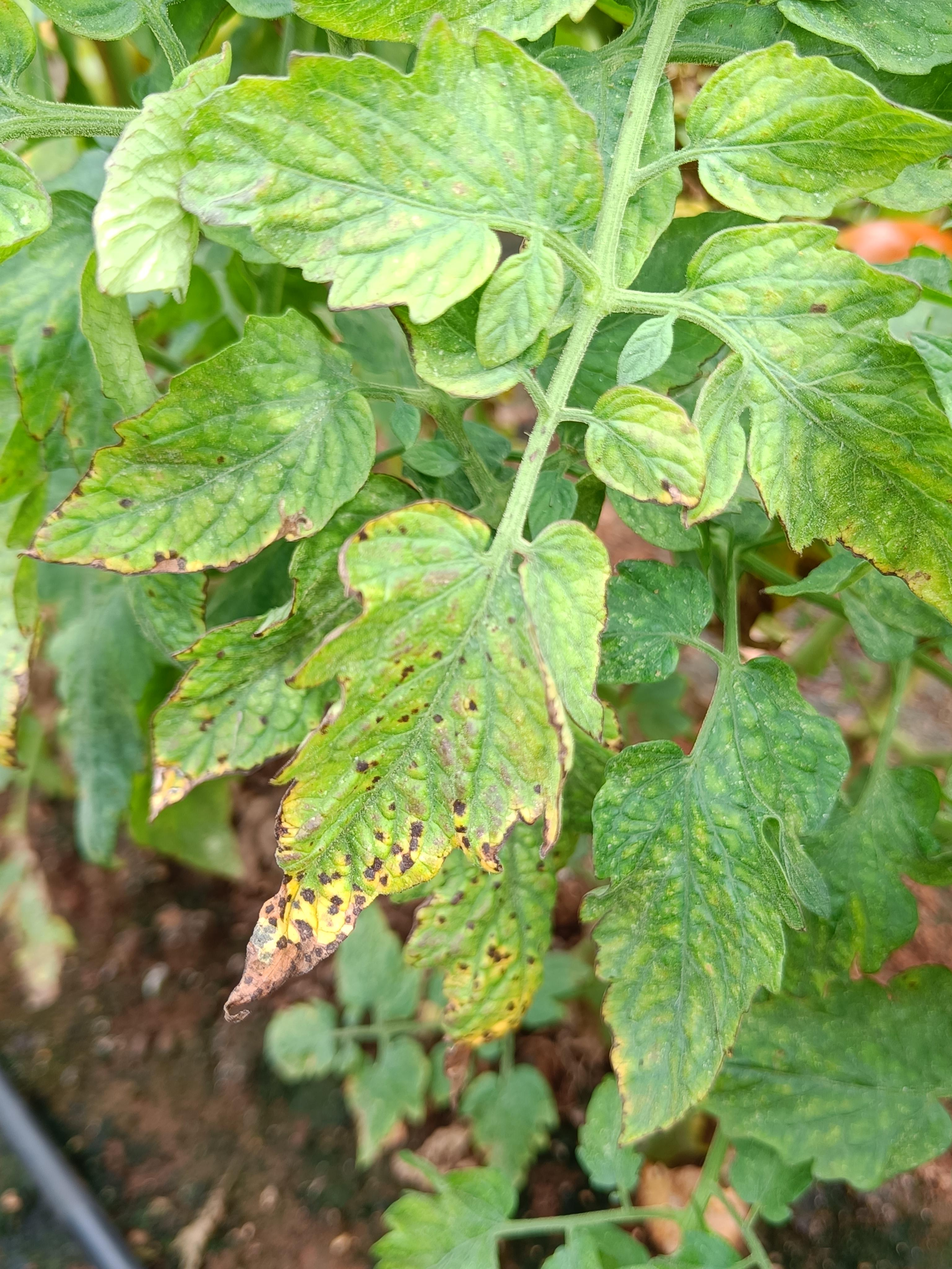Early Blight: (211, 495, 630, 1029), (16, 305, 378, 582), (583, 382, 713, 524)
